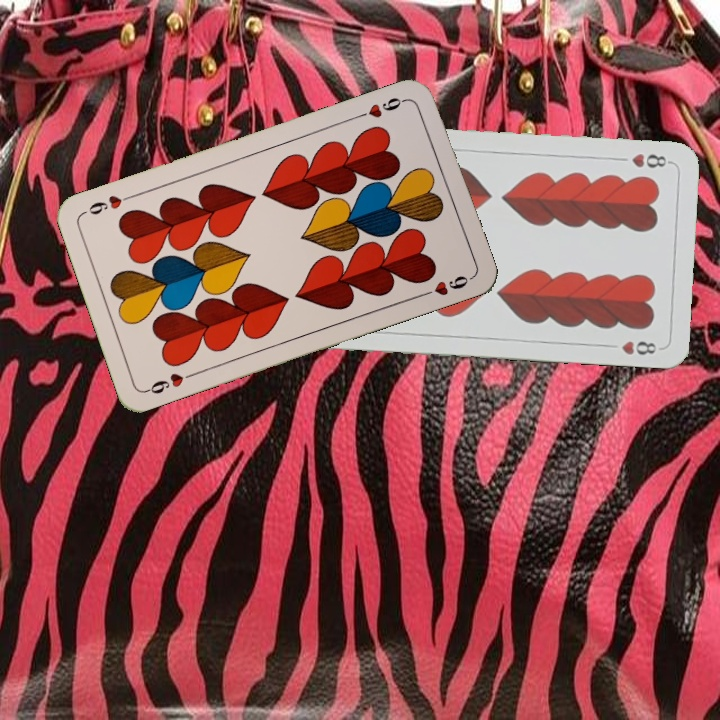H8: (627, 149, 674, 171)
H9: (142, 368, 199, 397), (353, 93, 411, 121)
